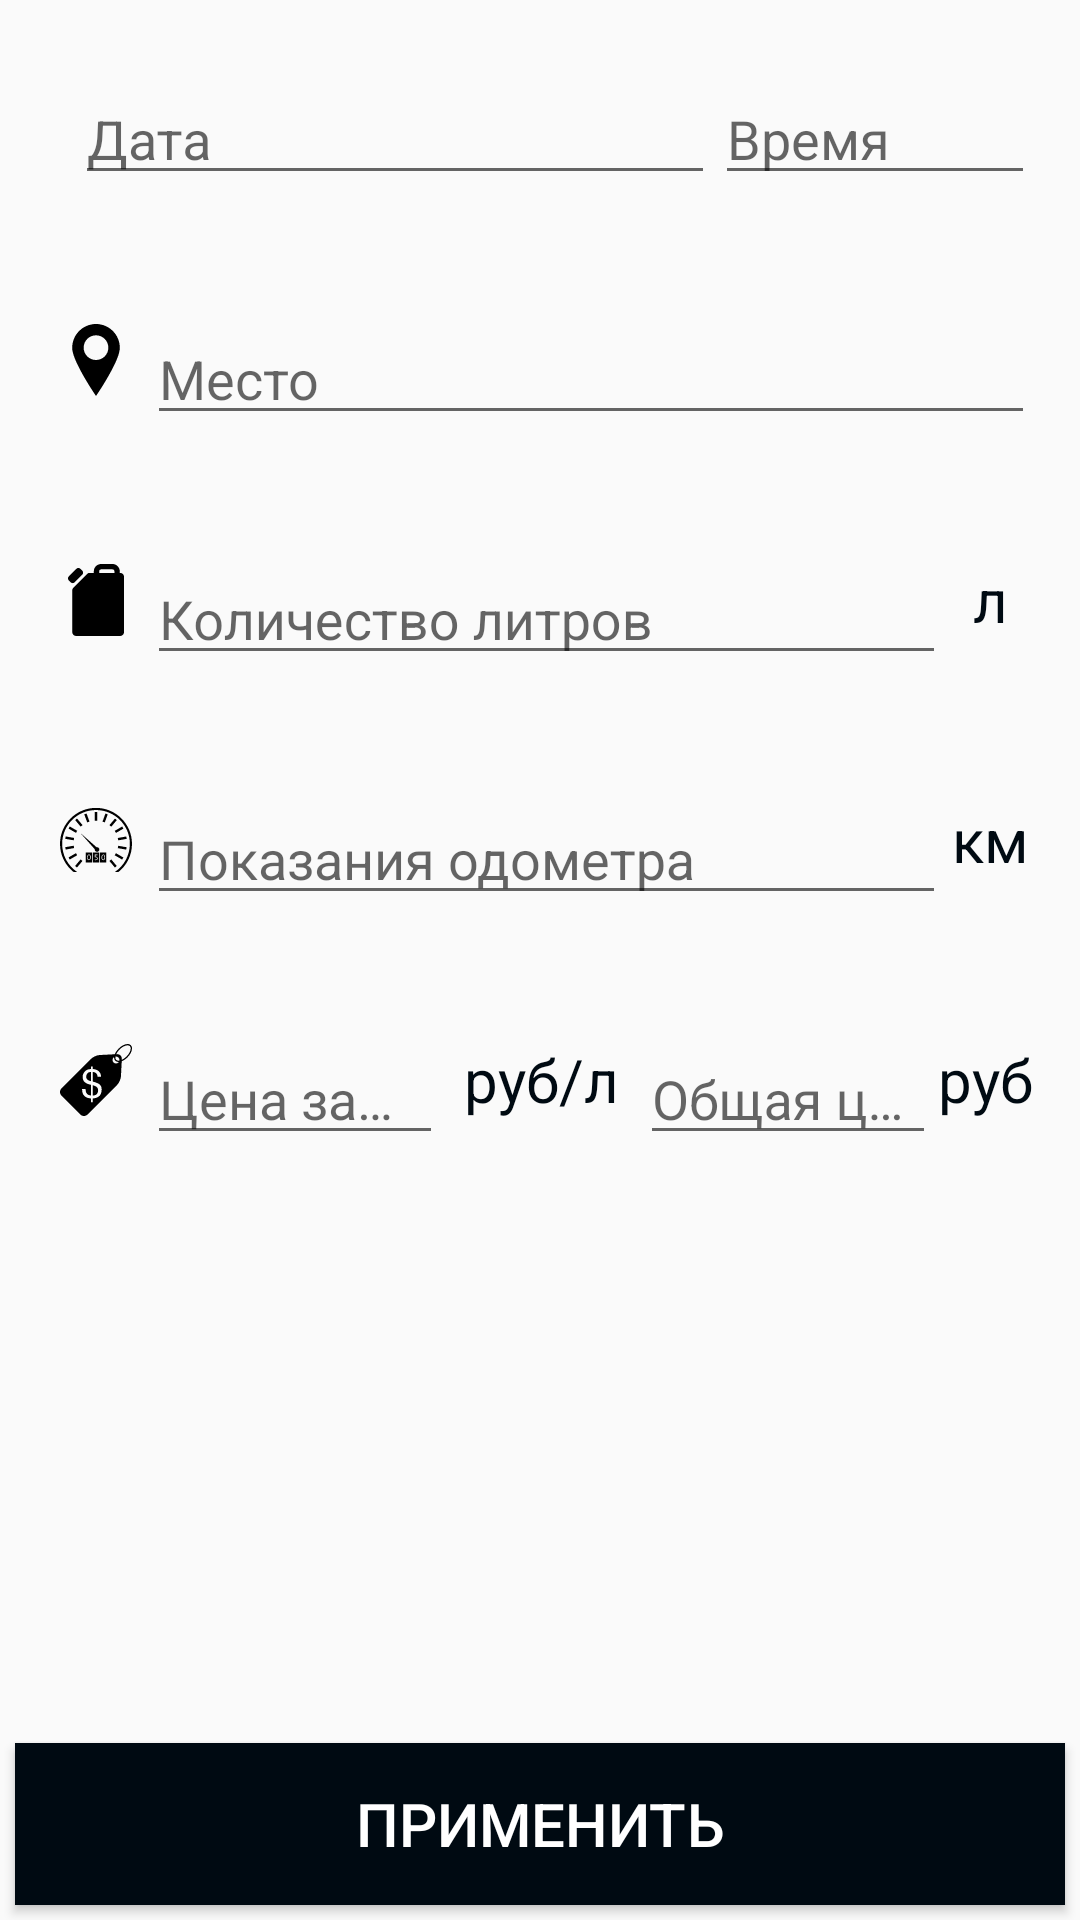

Screen size 1080 × 1920. Icon name, then its box in pixels as (x1, y1, x2, y2):
location: (72, 324, 120, 396)
odometer: (60, 808, 132, 872)
oil station: (68, 564, 124, 636)
price: (60, 1044, 132, 1116)
